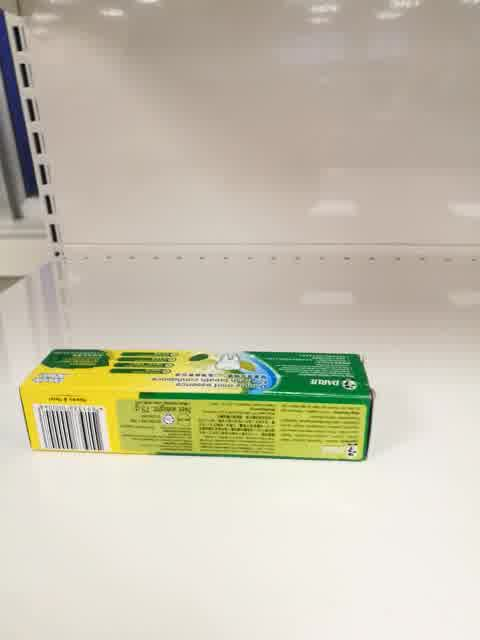toothpaste: (17, 349, 375, 462)
